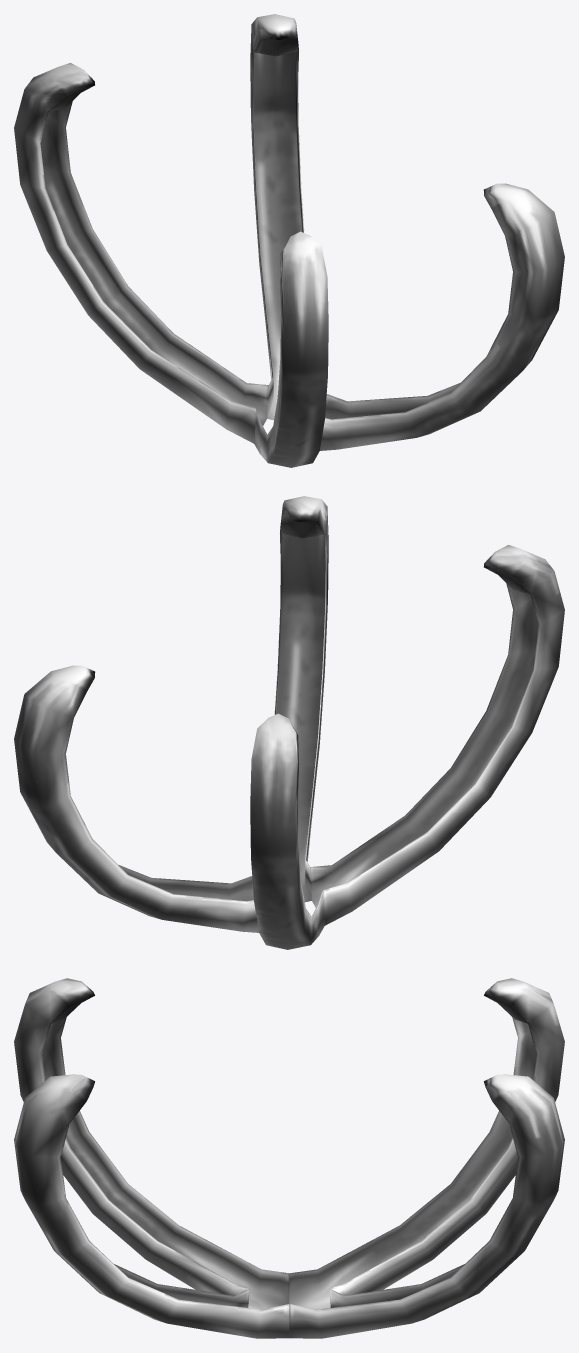
File: blueRing_frame_0208.obj
The picture shows the model from 3 angles, top to bottom: view 1: azimuth 30°, elevation 25°; view 2: azimuth 150°, elevation 25°; view 3: azimuth 270°, elevation 25°; orthographic projection. The views are drawn at different scales.
Visible parts, largest first — view 1: blueRing_frame:blueRing_combined1 blueRing_frame:ringMiddle1 blu; view 2: blueRing_frame:blueRing_combined1 blueRing_frame:ringMiddle1 blu; view 3: blueRing_frame:blueRing_combined1 blueRing_frame:ringMiddle1 blu.
Boxes of the visible parts, <box> form: blueRing_frame:blueRing_combined1 blueRing_frame:ringMiddle1 blu: <box>14,14,564,467</box>; blueRing_frame:blueRing_combined1 blueRing_frame:ringMiddle1 blu: <box>14,496,564,949</box>; blueRing_frame:blueRing_combined1 blueRing_frame:ringMiddle1 blu: <box>14,978,564,1338</box>.
Size of the model in its own units: 9.53 by 10.08 by 16.99.
1 material, 1 textured.
